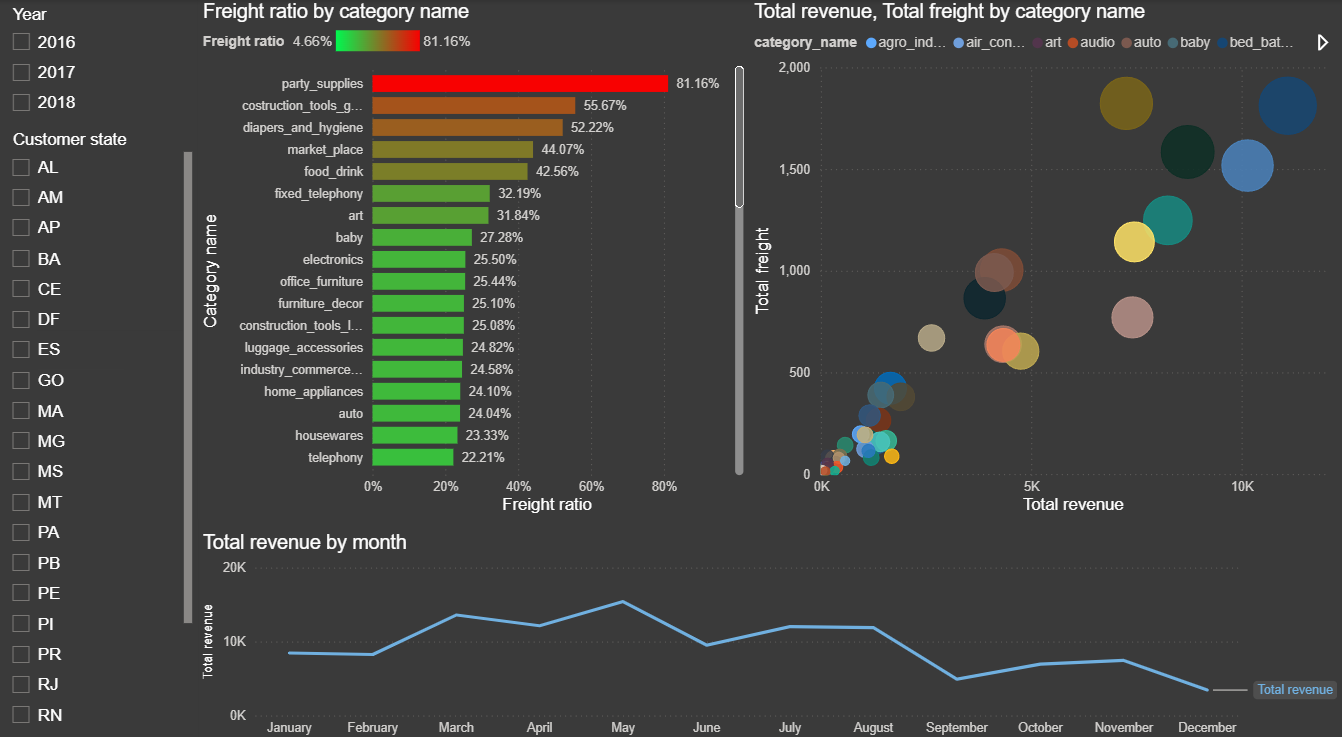

Layout of this report page (visuals, bound fields, positions):
{"tool":"powerbi","page":{"name":"Product Insights & Sales Trends","canvas":[1280,720],"ordinal":2},"visuals":[{"type":"scatterChart","title":"Total revenue, Total freight by category name","fields":{"Category":["olist_final_analysis.category_name"],"X":["olist_final_analysis.Total_Revenue"],"Y":["olist_final_analysis.Total_Freight"],"Size":["CountNonNull(olist_final_analysis.order_id)"],"Series":["olist_final_analysis.category_name"]},"box":[714.3,0,565.5,494.1],"z":0},{"type":"lineChart","title":"Total revenue by month","fields":{"Category":["olist_final_analysis.purchase_date.Variation.Date Hierarchy.Month"],"Y":["olist_final_analysis.Total_Revenue"]},"box":[189.3,506,1090.5,214.3],"z":1000},{"type":"slicer","fields":{"Values":["olist_final_analysis.customer_state"]},"box":[0,119,189.3,601.2],"z":2000},{"type":"slicer","fields":{"Values":["olist_final_analysis.purchase_date.Variation.Date Hierarchy.Year"]},"box":[0,0,189.3,119],"z":3000},{"type":"clusteredBarChart","title":"Freight ratio by category name","fields":{"Category":["olist_final_analysis.category_name"],"Y":["olist_final_analysis.Freight_Ratio"]},"box":[189.3,0,525,494.1],"z":4000}]}

Visuals, with their boxes in screenshot pixels (x1, y1, x2, y2), scaled from the page's 1280x720 canvas onto the 1342x737 screenshot:
"Total revenue, Total freight by category name" scatterChart: (left=749, top=0, right=1341, bottom=506)
"Total revenue by month" lineChart: (left=198, top=518, right=1341, bottom=736)
slicer - olist_final_analysis.customer_state: (left=0, top=122, right=198, bottom=736)
slicer - olist_final_analysis.purchase_date.Variation.Date Hierarchy.Year: (left=0, top=0, right=198, bottom=122)
"Freight ratio by category name" clusteredBarChart: (left=198, top=0, right=749, bottom=506)
